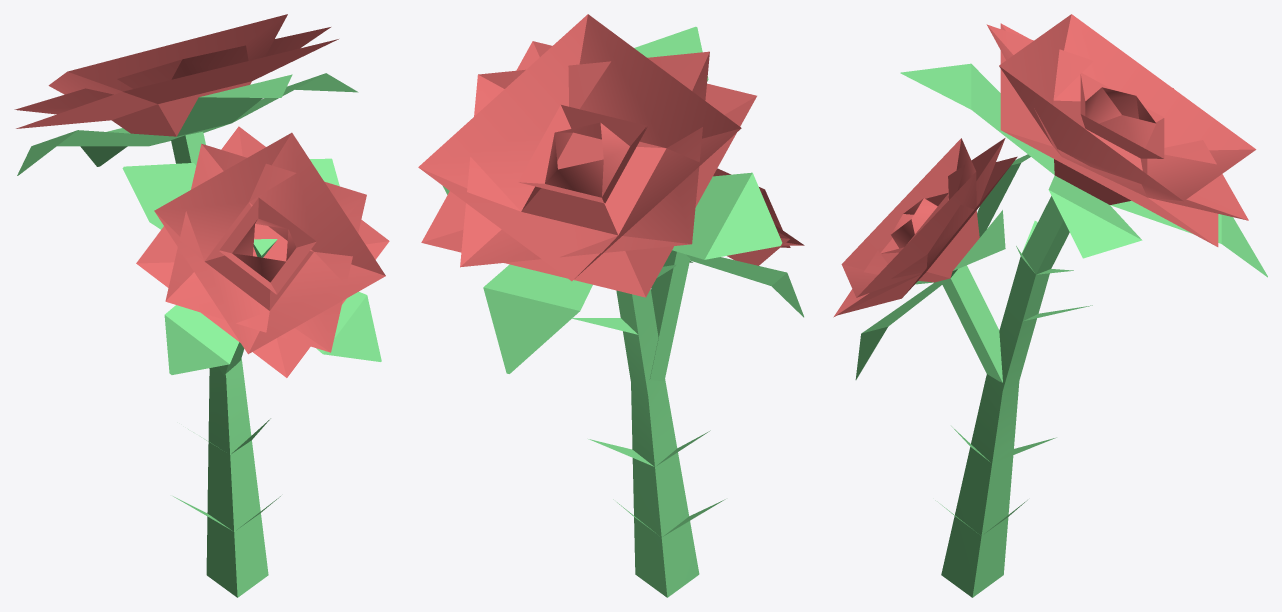
File: 04_rose.fbx
3 views of the same model, side by side, from view 1: azimuth 30°, elevation 25°; view 2: azimuth 150°, elevation 25°; view 3: azimuth 270°, elevation 25° (orthographic). The views are drawn at different scales.
Parts seen in each view (by area): view 1: pCube4; view 2: pCube4; view 3: pCube4.
Part boxes in pixels (box(x1,y1,x2,y2)): pCube4: box(14, 14, 389, 597); pCube4: box(418, 14, 804, 597); pCube4: box(833, 14, 1267, 597).
Bounding box in the file's own units: 3.3 × 5.02 × 3.61.
